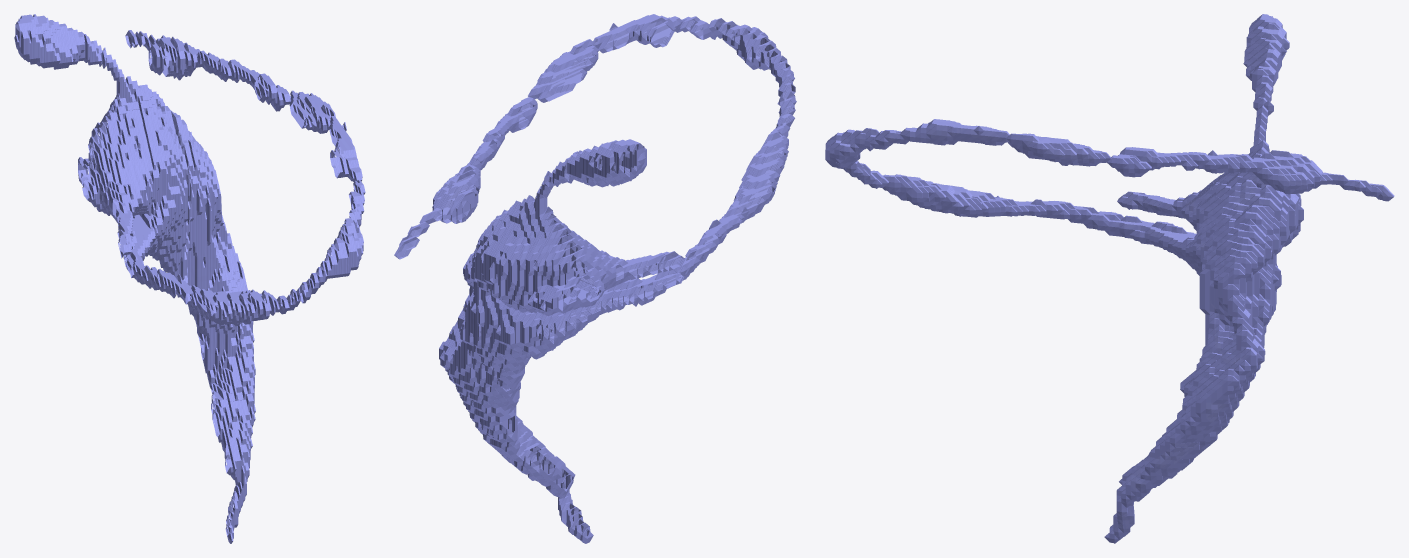
Rendered from SVV_IL1DR.gltf.
The picture shows the model from 3 angles, left to right: view 1: azimuth 30°, elevation 25°; view 2: azimuth 150°, elevation 25°; view 3: azimuth 270°, elevation 25°; orthographic projection. The views are drawn at different scales.
Parts seen in each view (by area): view 1: IL1DR; view 2: IL1DR; view 3: IL1DR.
Part boxes in pixels (x1,y1,x2,y2): IL1DR: (14, 14, 365, 543); IL1DR: (394, 14, 796, 543); IL1DR: (825, 14, 1394, 543).
Bounding box in the file's own units: 27555 × 61329 × 67713.
